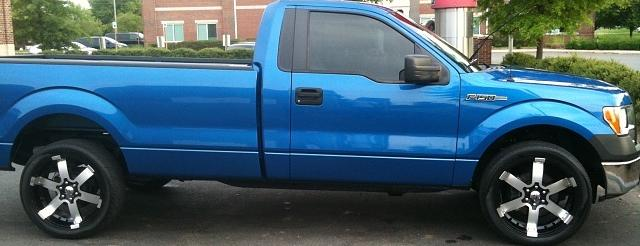headlight: (602, 102, 636, 145)
side_glass: (256, 4, 455, 87)
